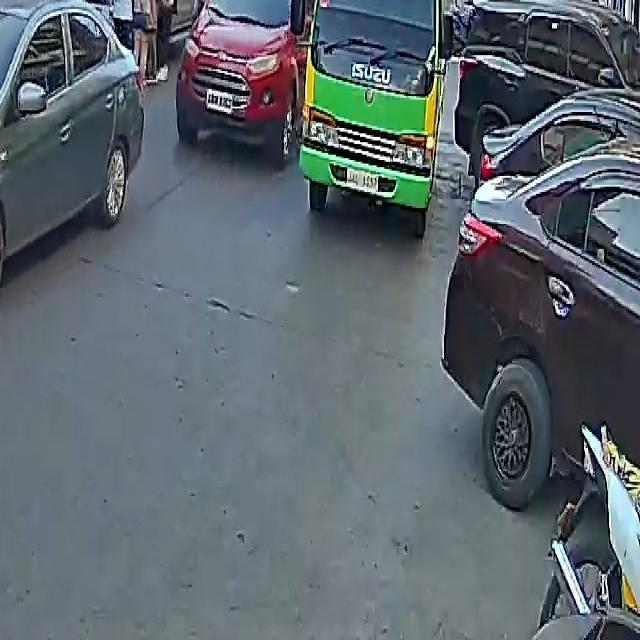car: (444, 62, 640, 530), (0, 0, 150, 316), (452, 0, 640, 185), (175, 0, 317, 162), (78, 0, 220, 53)
